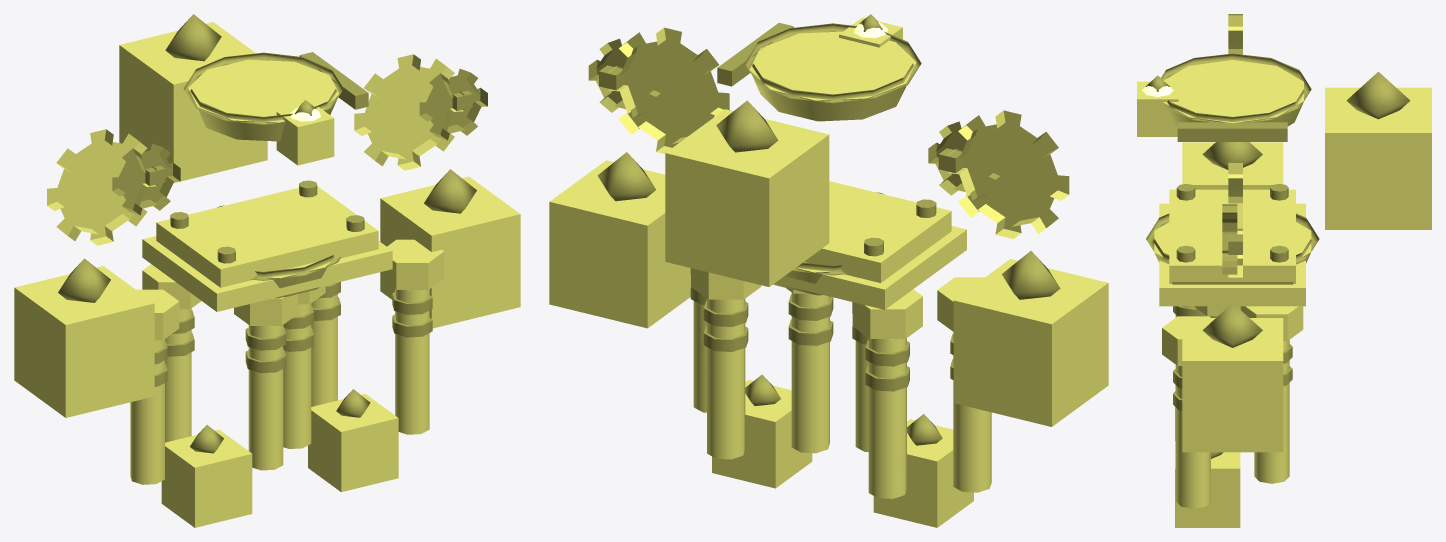
File: golem_034.glb
3 renders of one model, left to right at view 1: azimuth 30°, elevation 25°; view 2: azimuth 150°, elevation 25°; view 3: azimuth 270°, elevation 25°, orthographic. The views are drawn at different scales.
Visible parts, largest first — view 1: Body, Detail; view 2: Body, Detail; view 3: Body, Detail.
Boxes of the visible parts, x1,y1,x2,y2 form: Body: [14, 22, 520, 527]; Detail: [58, 14, 487, 453]; Body: [549, 17, 1108, 527]; Detail: [588, 14, 1060, 445]; Body: [1137, 14, 1431, 527]; Detail: [1145, 53, 1410, 458].
Bounding box in the file's own units: 1.16 × 1 × 0.659.
